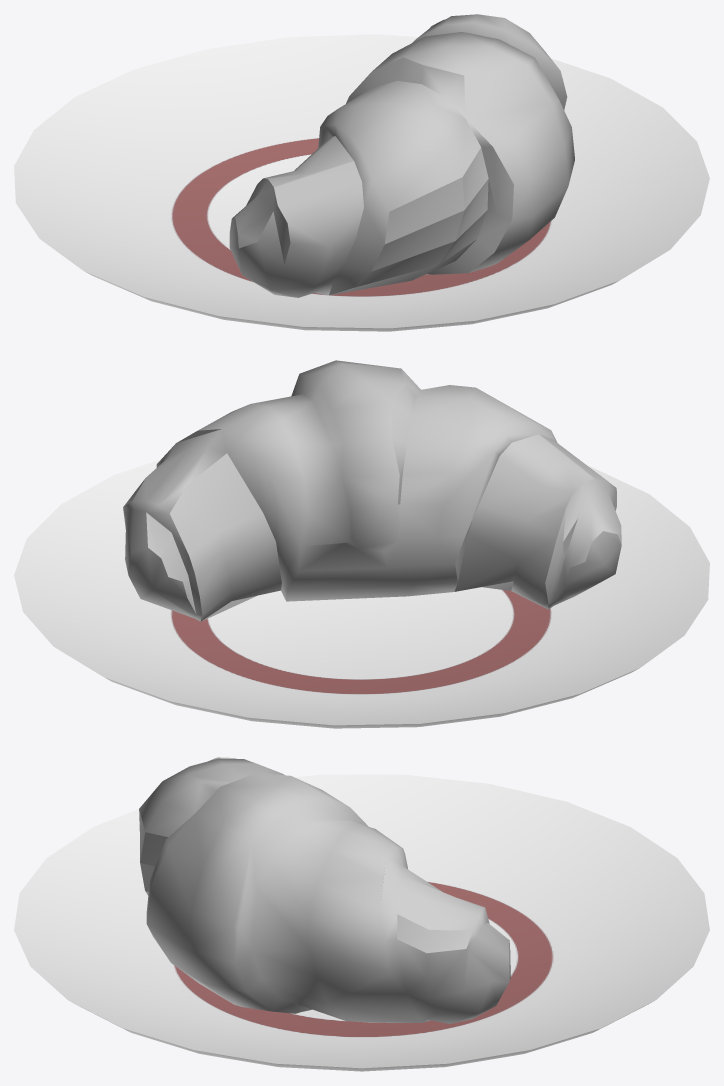
File: Brioche.FBX
The picture shows the model from 3 angles, top to bottom: view 1: azimuth 30°, elevation 25°; view 2: azimuth 150°, elevation 25°; view 3: azimuth 270°, elevation 25°; orthographic projection.
Visible parts, largest first — view 1: brioche; view 2: brioche; view 3: brioche.
Part boxes in pixels (left/top/right/bottom): brioche: left=14, top=14, right=709, bottom=331; brioche: left=14, top=360, right=709, bottom=728; brioche: left=14, top=757, right=709, bottom=1071.
Bounding box in the file's own units: 20.83 × 7.27 × 20.87.
